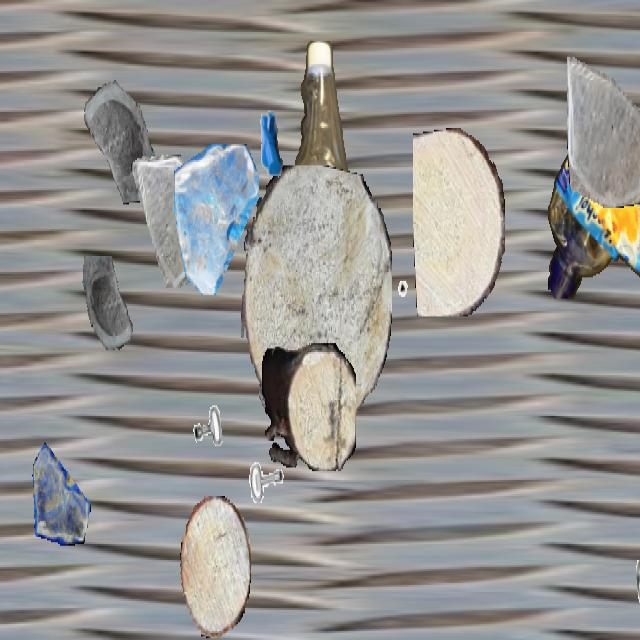glass: (174, 144, 258, 293), (74, 57, 156, 203), (567, 48, 640, 208), (130, 155, 204, 286), (79, 256, 141, 366), (32, 441, 90, 544)
metal: (179, 347, 239, 453), (242, 91, 298, 190), (246, 453, 292, 535), (394, 278, 434, 348), (636, 532, 640, 628), (638, 178, 640, 249)
plastic: (274, 41, 356, 393), (546, 137, 640, 297)
wood: (241, 166, 391, 436), (413, 128, 505, 316), (262, 343, 356, 471), (180, 496, 250, 638)
